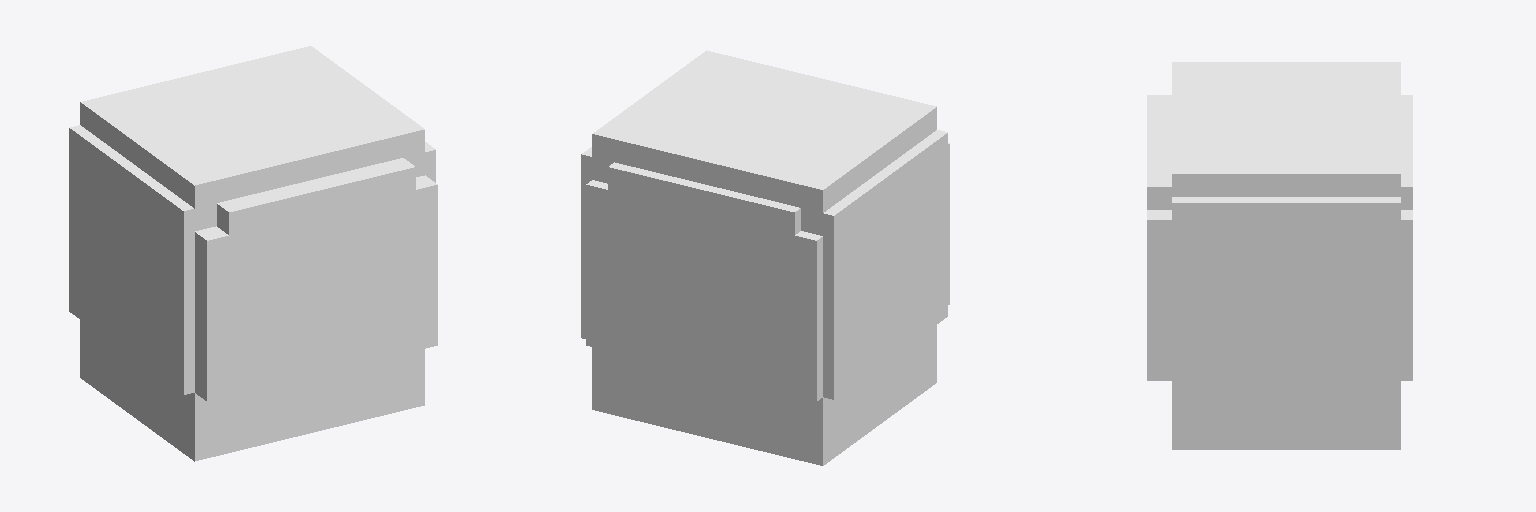
Rendered from enemy-10.obj.
3 renders of one model, left to right at view 1: azimuth 30°, elevation 25°; view 2: azimuth 150°, elevation 25°; view 3: azimuth 270°, elevation 25°, orthographic.
Visible parts, largest first — view 1: object 1; view 2: object 1; view 3: object 1.
Part boxes in pixels (x1,y1,x2,y2): object 1: (69, 46, 437, 461); object 1: (581, 50, 949, 465); object 1: (1147, 62, 1412, 449).
Size of the model in its own units: 2.3 by 2.4 by 2.1.